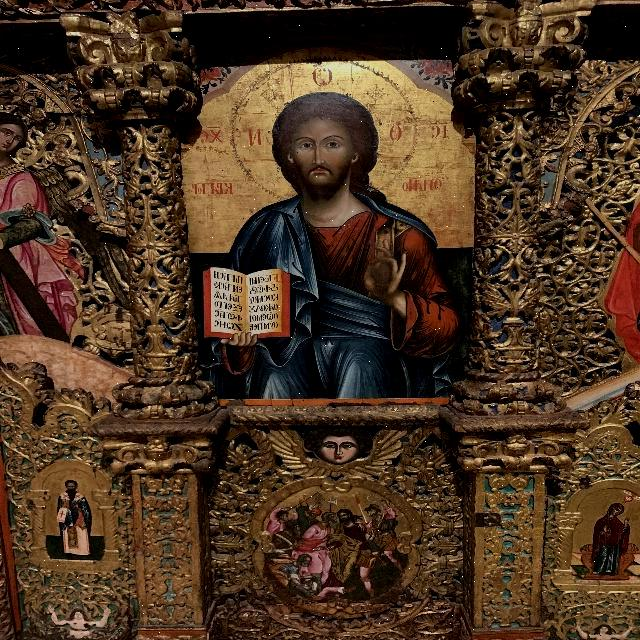aura: (229, 57, 425, 207)
book: (207, 267, 296, 340)
christ: (206, 54, 437, 370)
hand: (363, 242, 412, 317)
